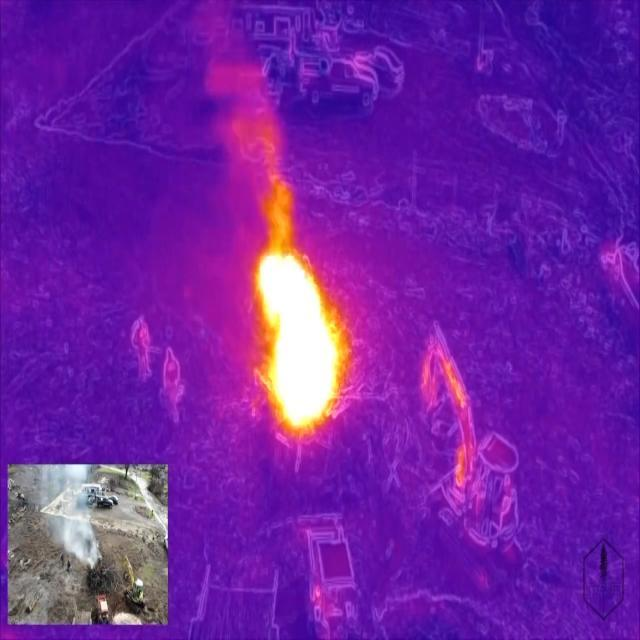fire: (258, 192, 345, 437)
